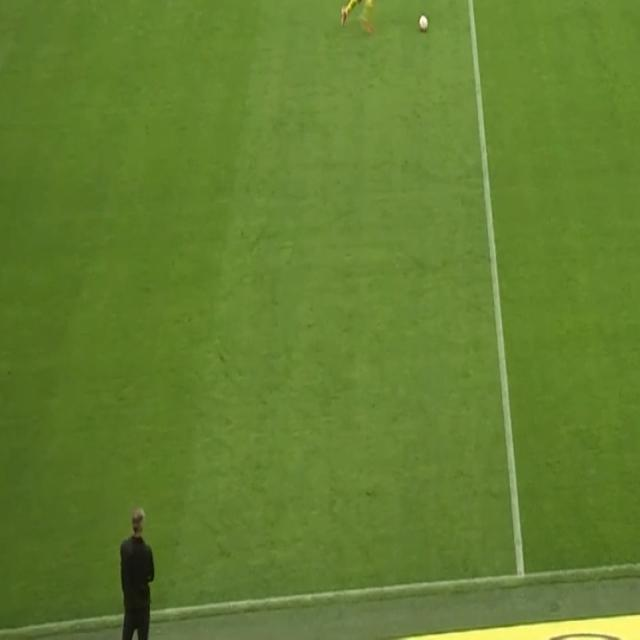ball: (417, 14, 429, 34)
